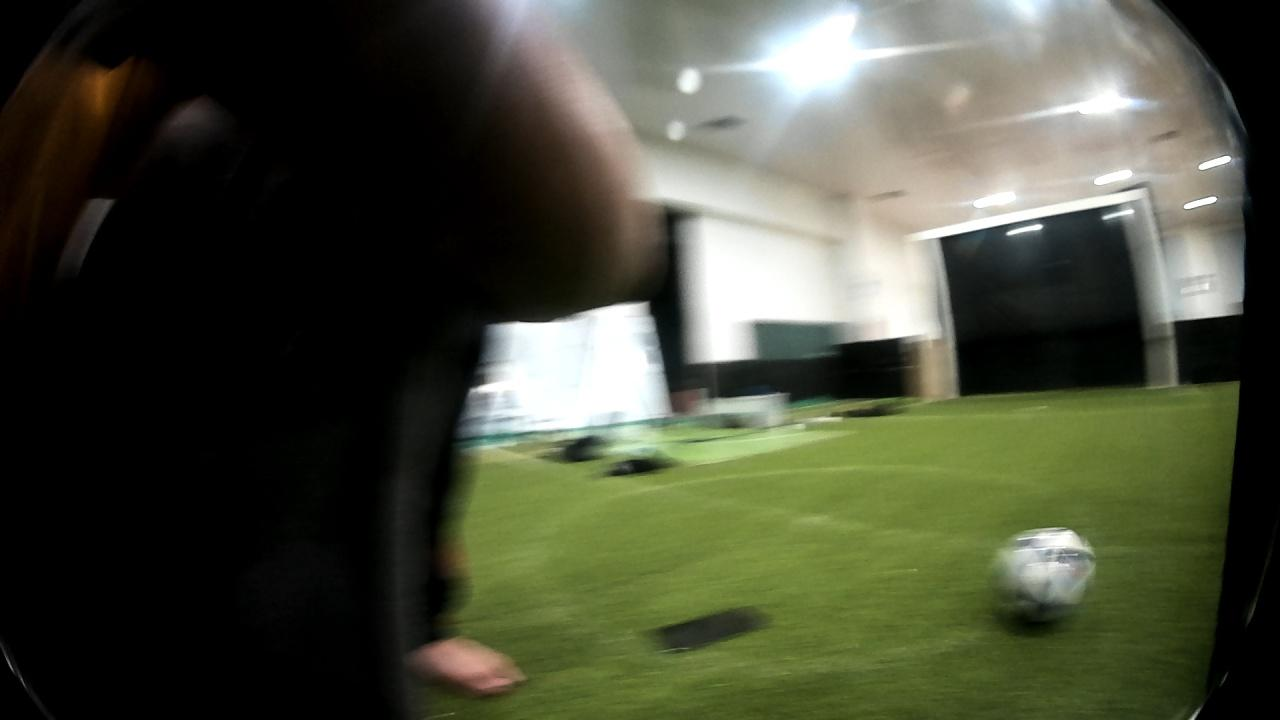ball: (975, 514, 1119, 627)
